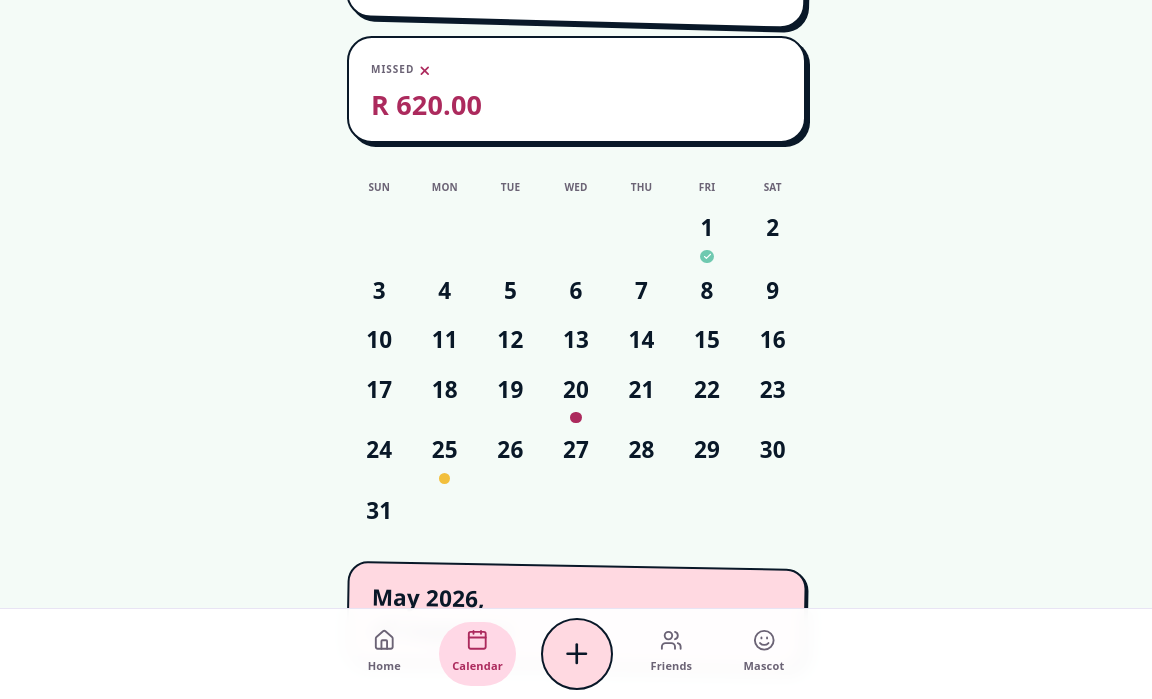
CalendarPage › shows no expenses message when selected date has no occurrences
The width and height of the screenshot is (1152, 699).
(page scrolled)
Click the button named "May 10": click(379, 340) [357,317,402,362]
(page scrolled)
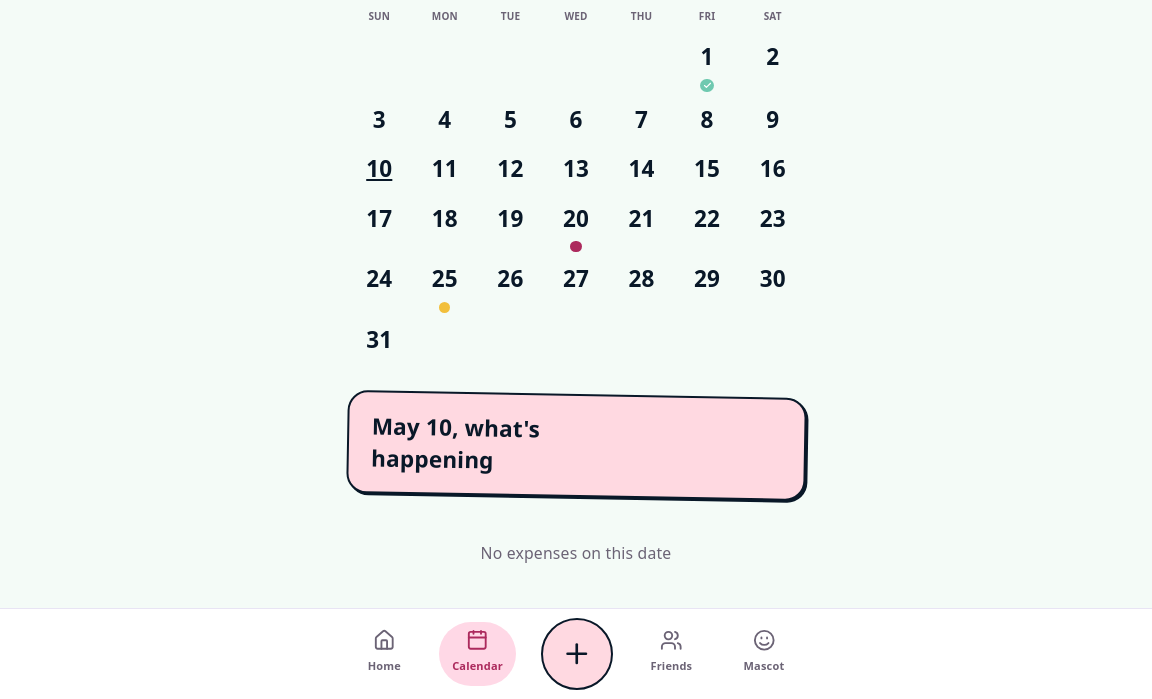
Expected: the text "No expenses on this date" is shown, [481,542,671,564]
